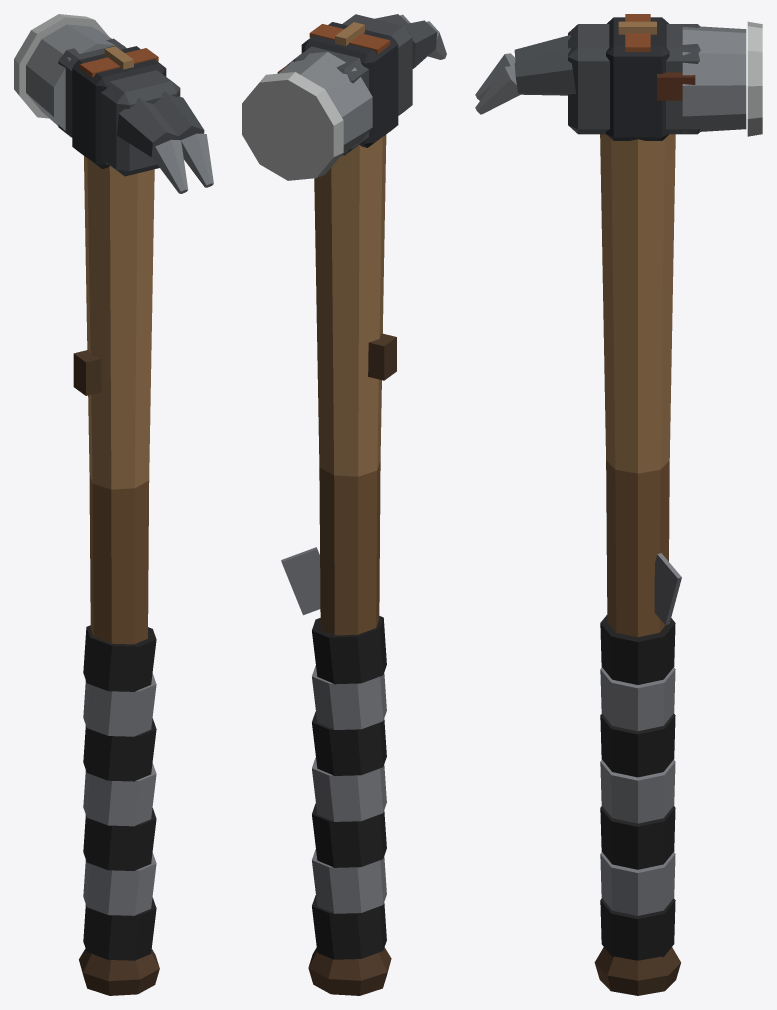
The model's file is melee_hammer.fbx.
3 renders of one model, left to right at view 1: azimuth 30°, elevation 25°; view 2: azimuth 150°, elevation 25°; view 3: azimuth 270°, elevation 25°, orthographic. The views are drawn at different scales.
Visible parts, largest first — view 1: melee_hammer; view 2: melee_hammer; view 3: melee_hammer.
Part boxes in pixels (x1=…): melee_hammer: x1=14, y1=14, x2=213, y2=995; melee_hammer: x1=242, y1=14, x2=446, y2=995; melee_hammer: x1=475, y1=14, x2=762, y2=995.
Size of the model in its own units: 0.0884 by 0.8275 by 0.2257.
